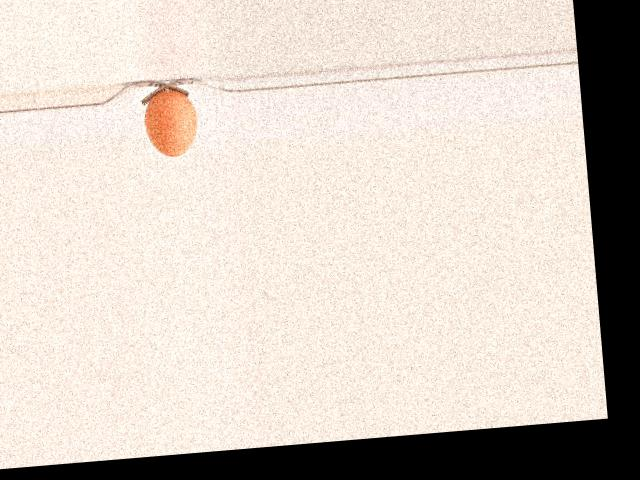egg: (143, 87, 200, 158)
